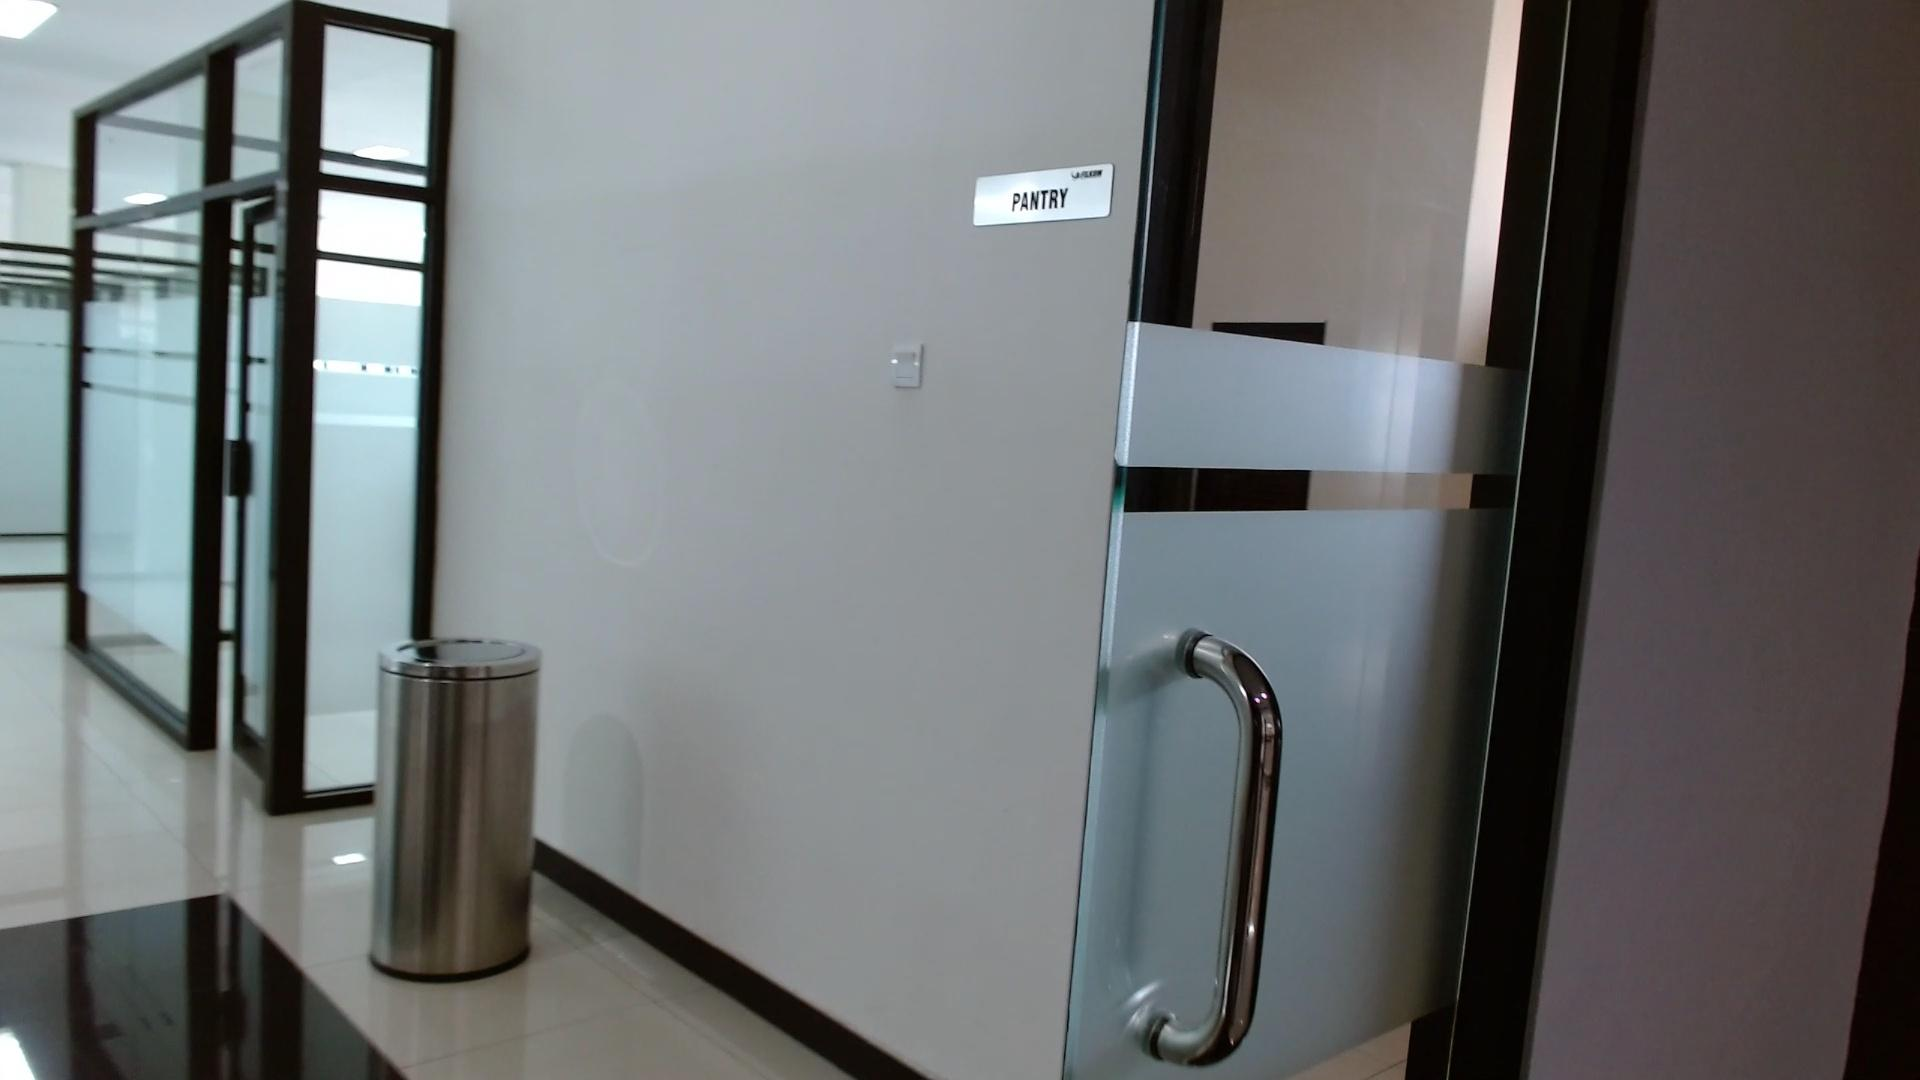plate: (972, 164, 1114, 227)
